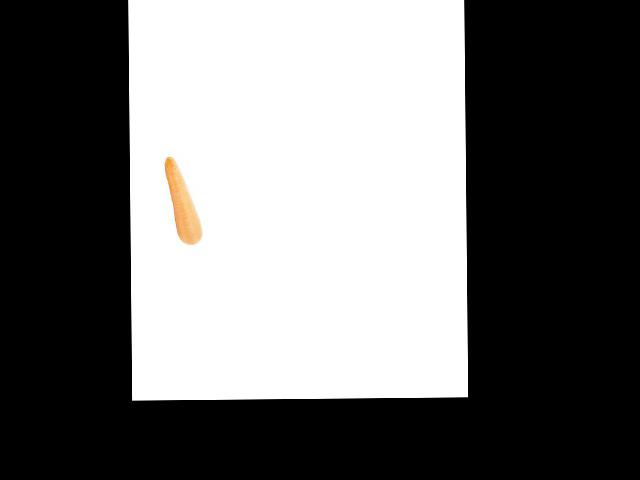carrot: (161, 151, 202, 250)
